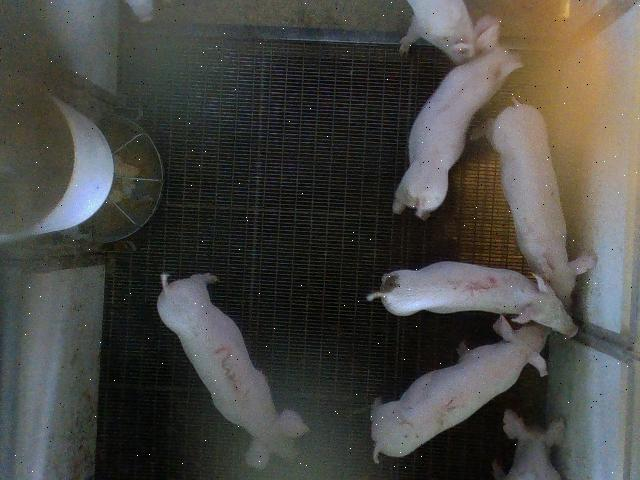pig-3: (158, 273, 309, 469)
pig-5: (366, 261, 578, 336)
